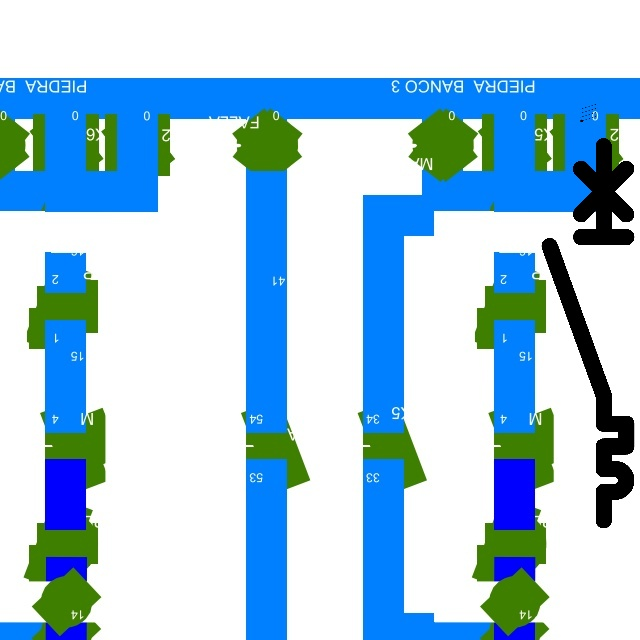interruptor_termomagnetico: (540, 136, 636, 530)
